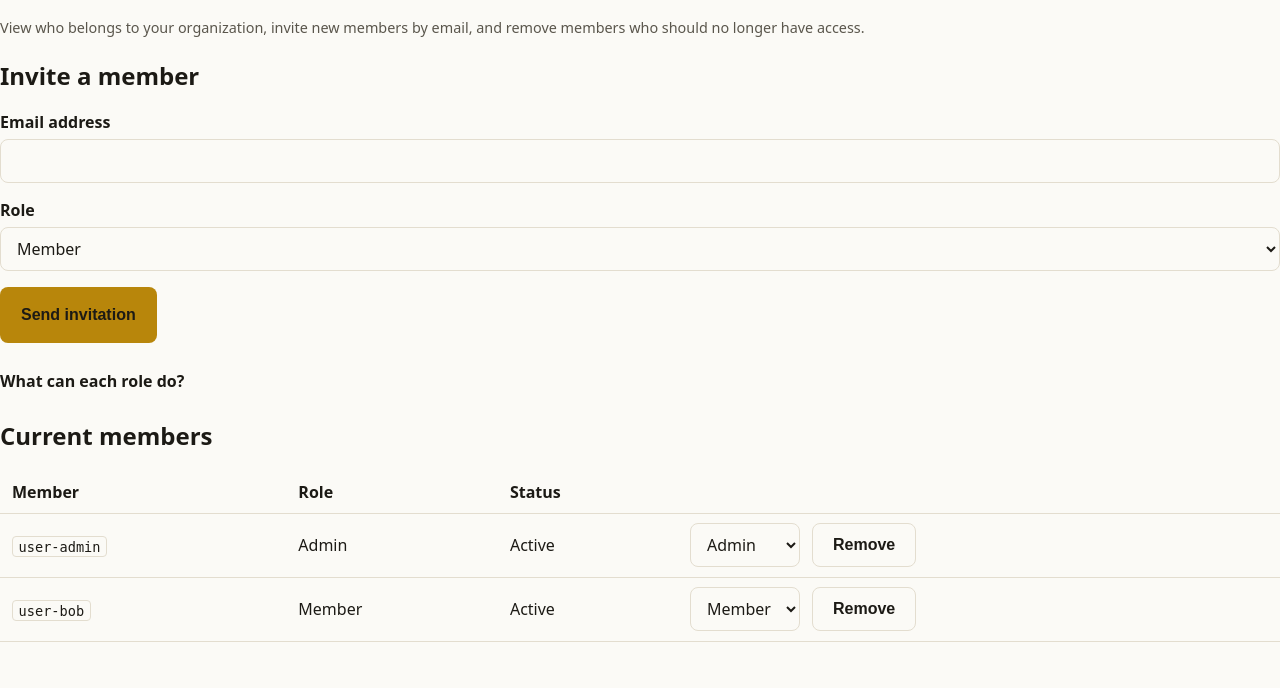
Test: MemberManagement — change role (NFR-ROL-1, D-3) › confirms, PATCHes the chosen role, reflects it in the roster and announces success
The width and height of the screenshot is (1280, 688).
Expected: the text "user-bob" is shown, [12, 600, 91, 621]
Select "Admin" in the dropdown named "change role for member user-bob" in the row of "user-bob" at {"x": 745, "y": 610}, box [690, 588, 800, 632]
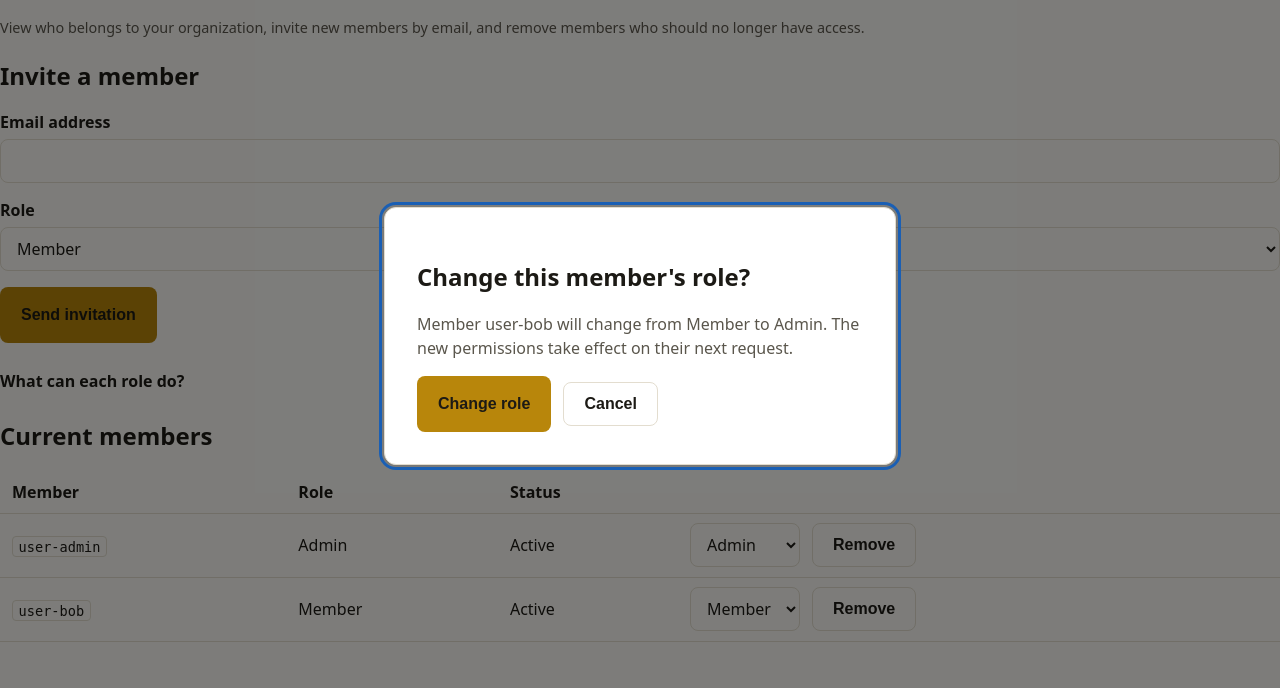
Click the button "Change role" at {"x": 484, "y": 404}, box [417, 376, 552, 432]
(page scrolled)
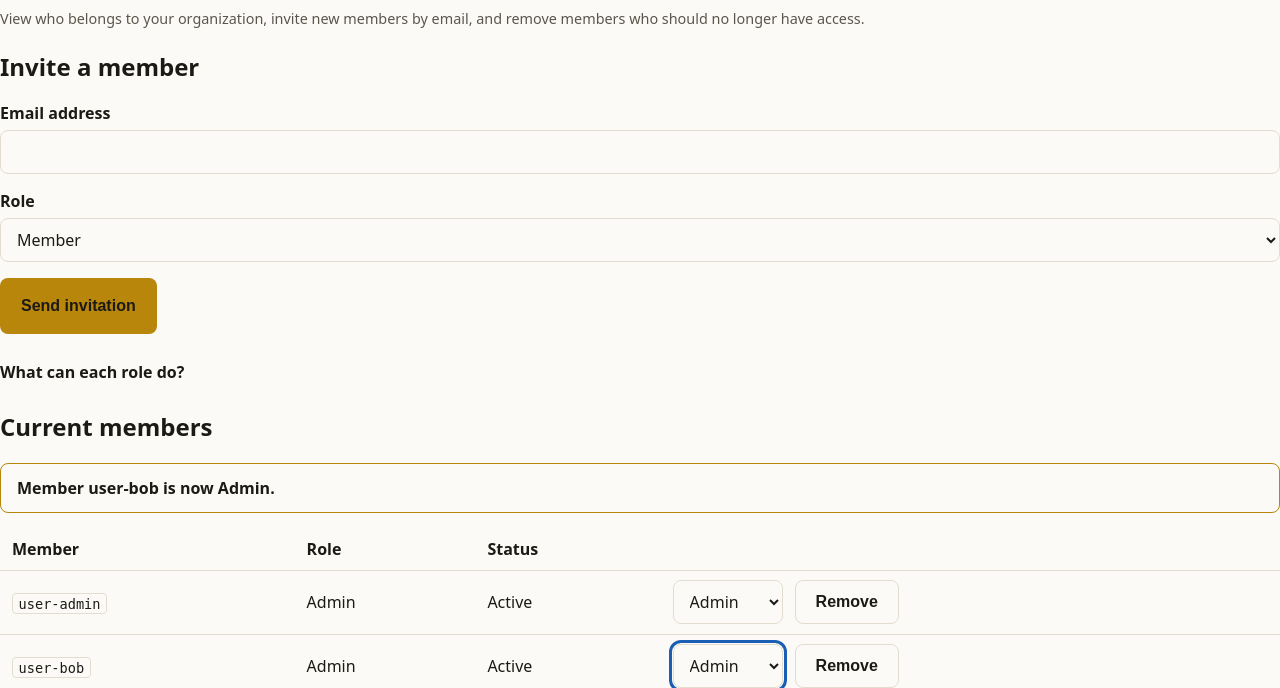
Expected: the dialog is gone
Expected: the text "Member user-bob is now Admin." is shown, [0, 462, 1279, 512]
